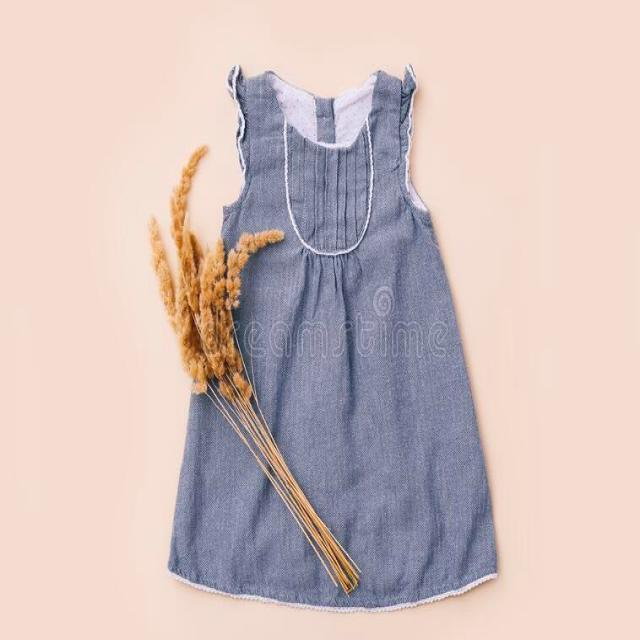clothes: (213, 49, 504, 608)
